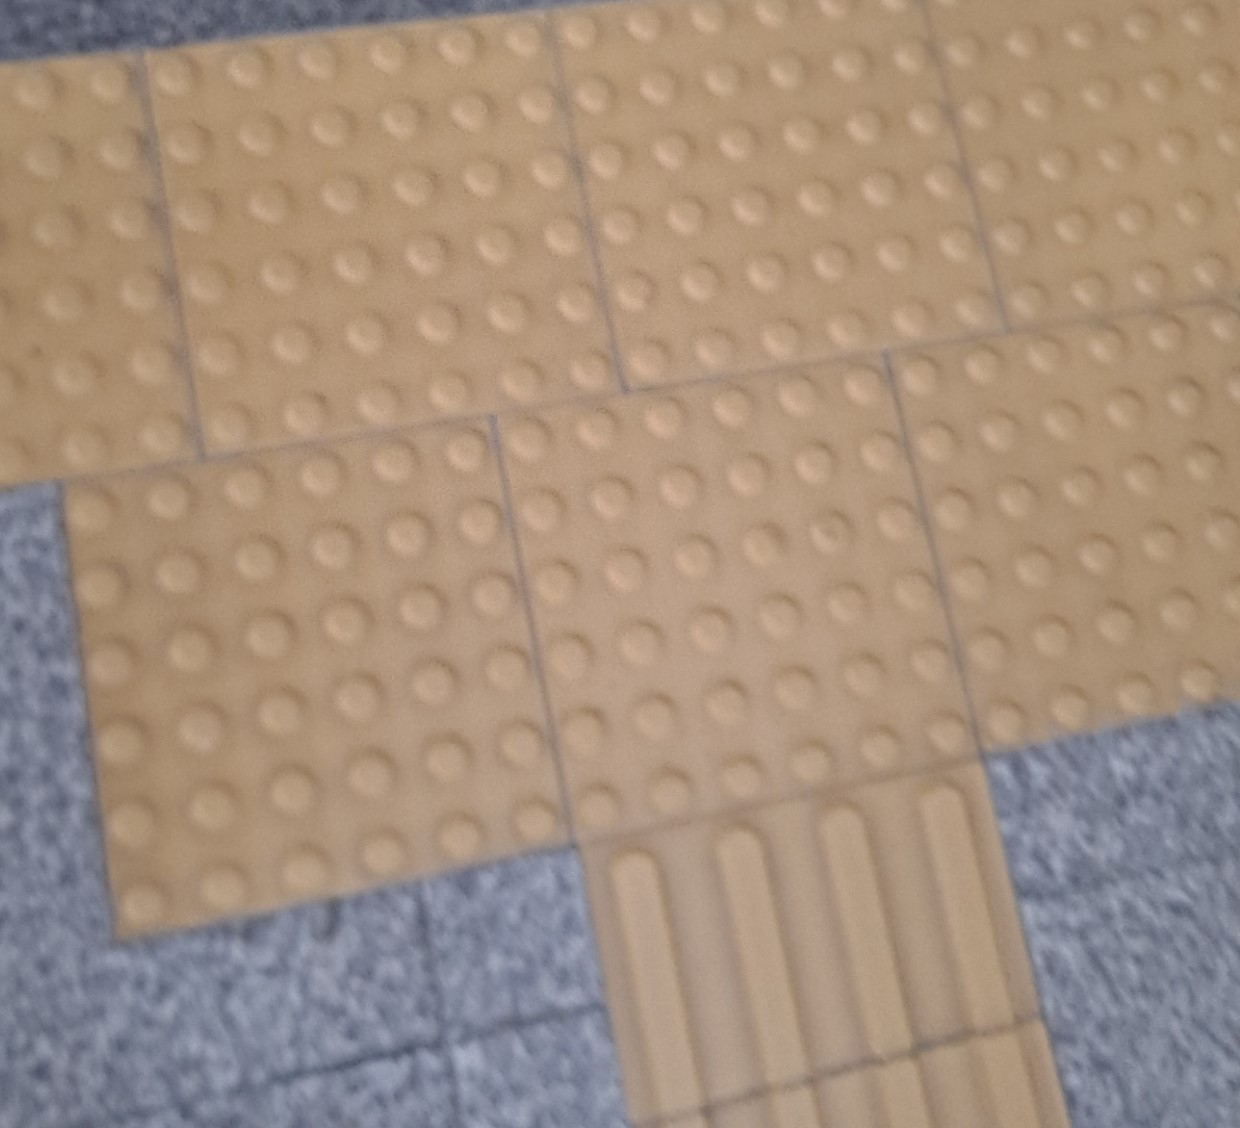guideBlock: (608, 815, 1071, 1128)
warningBlock: (37, 491, 620, 904), (498, 385, 924, 757), (187, 17, 598, 391), (567, 8, 1002, 338), (940, 322, 1240, 712), (6, 59, 247, 481), (979, 32, 1240, 345)
